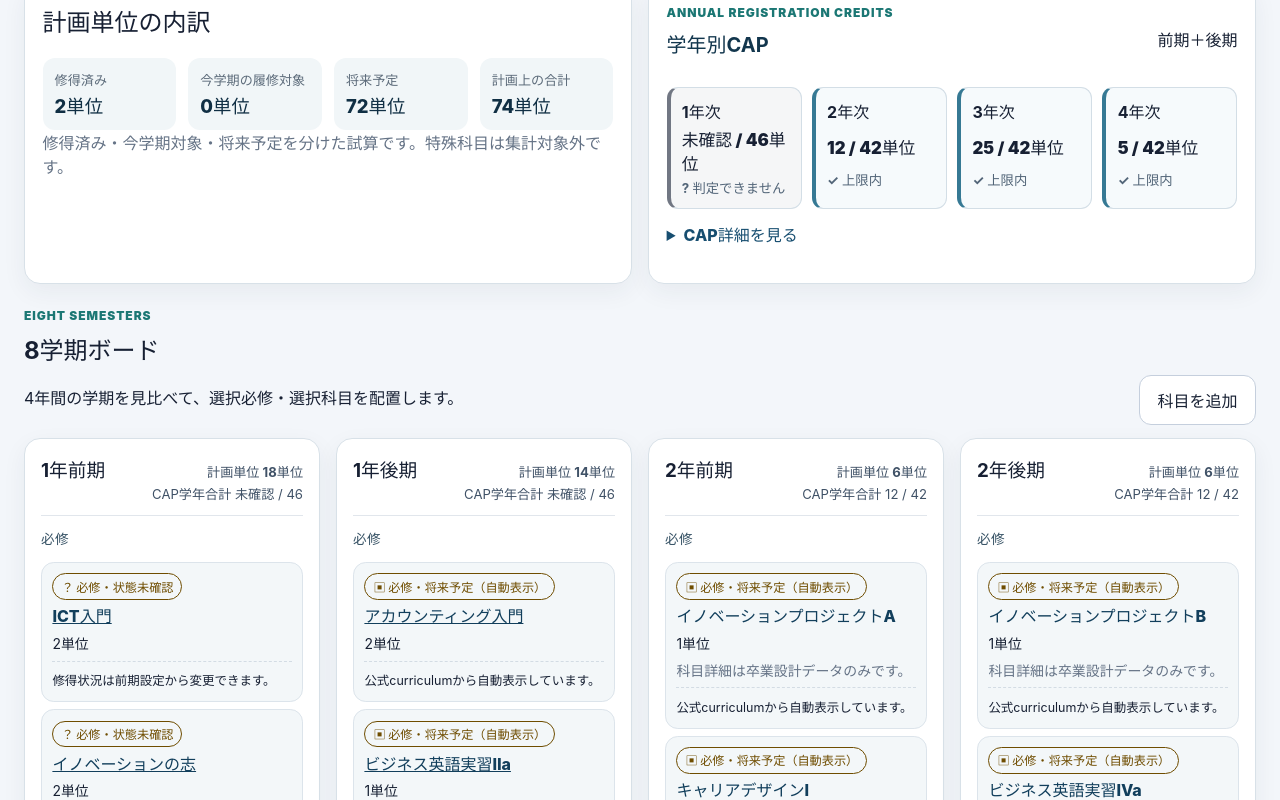
Phase 12A UI › 必修は通常追加検索から除外して自動配置先を説明する
(page scrolled)
Click the button "科目を追加": (1197, 400) [1139,376,1256,426]
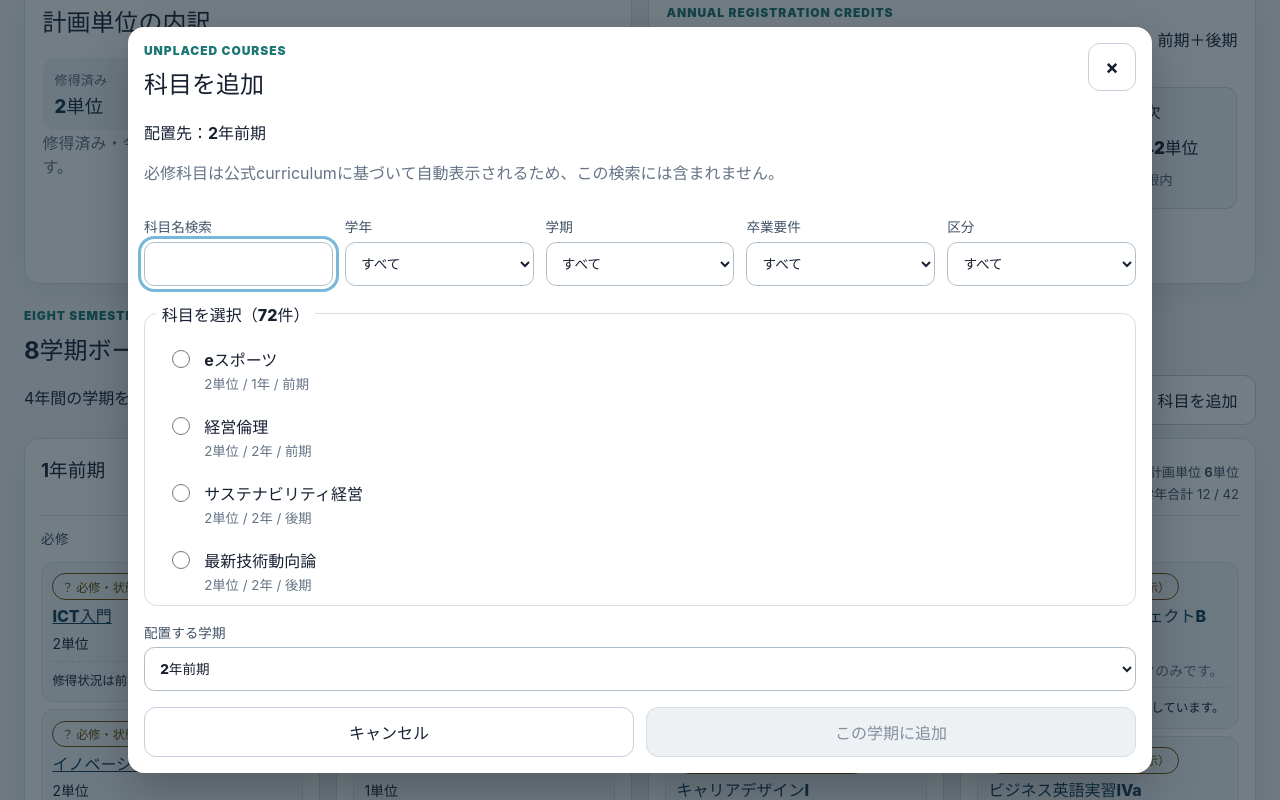
In the search field labelled "科目名検索": (238, 264) [144,242,333,286], type "実習事前指導"
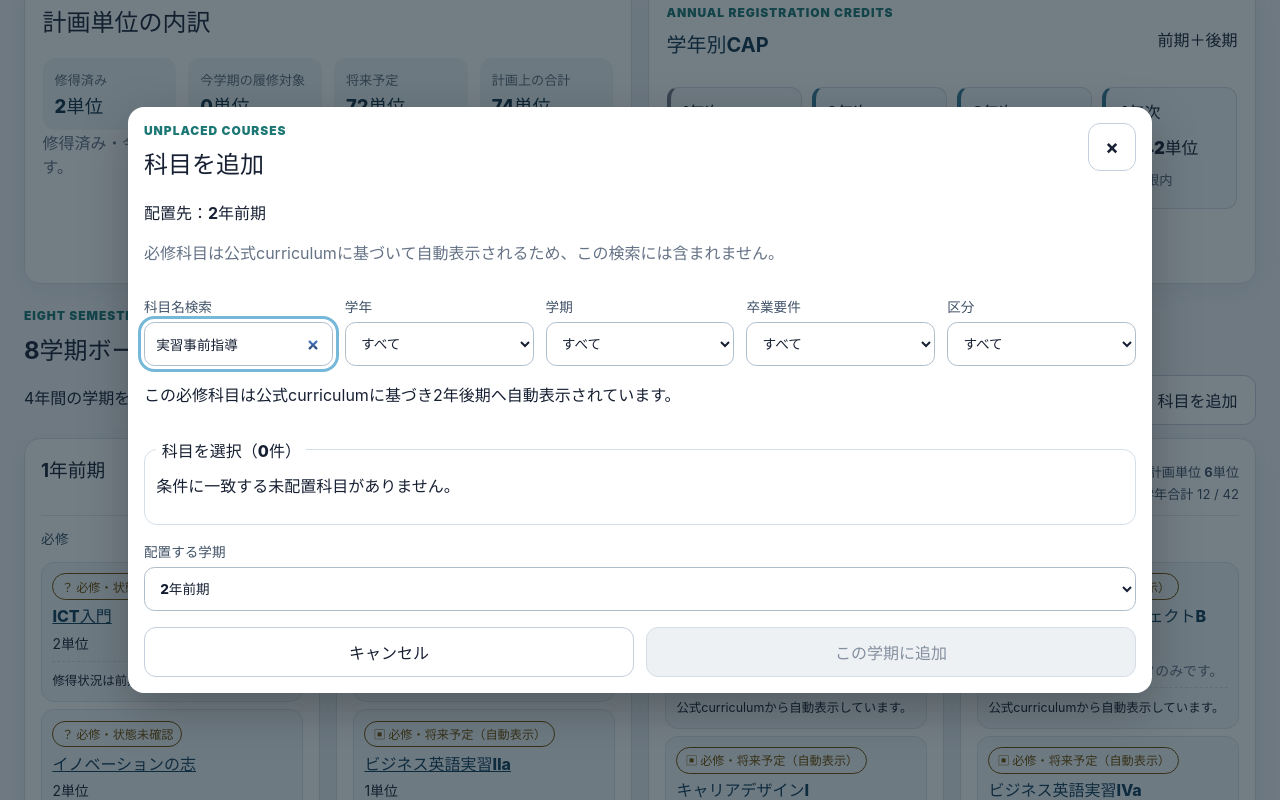
Expected: the button "この学期に追加" is disabled, [646,627,1136,677]
Expected: the text "2年後期へ自動表示" is shown, [144,385,681,405]
